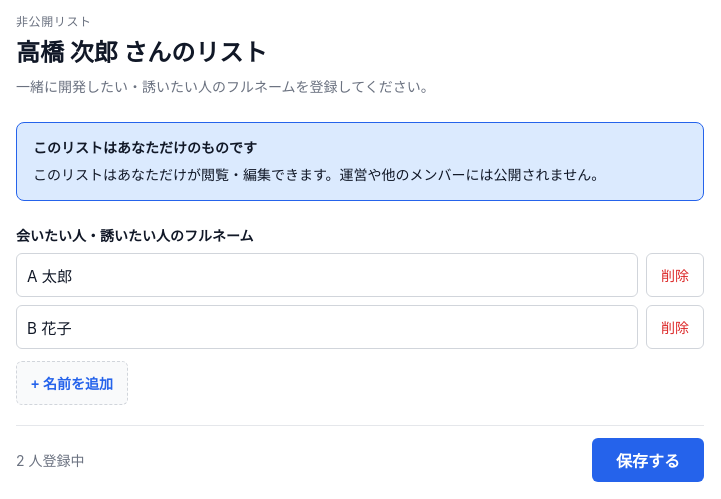
Test: WhitelistFormPage smoke (宗教 PR5) › 行を削除できる
Expected: the field showing "A 太郎" is shown, [16,253,638,297]
Click the button with aria-label "名前 1 を削除" at (675, 275), box [646,253,704,297]
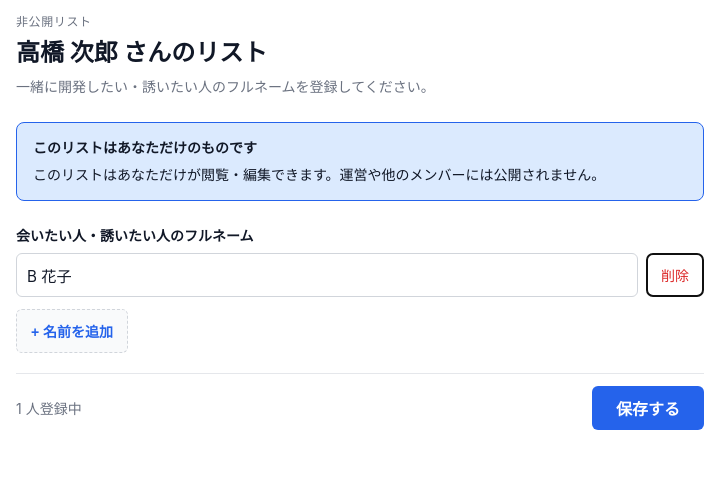
Expected: the field showing "A 太郎" is not shown
Now the field showing "B 花子" is shown, box [16,253,638,297]
